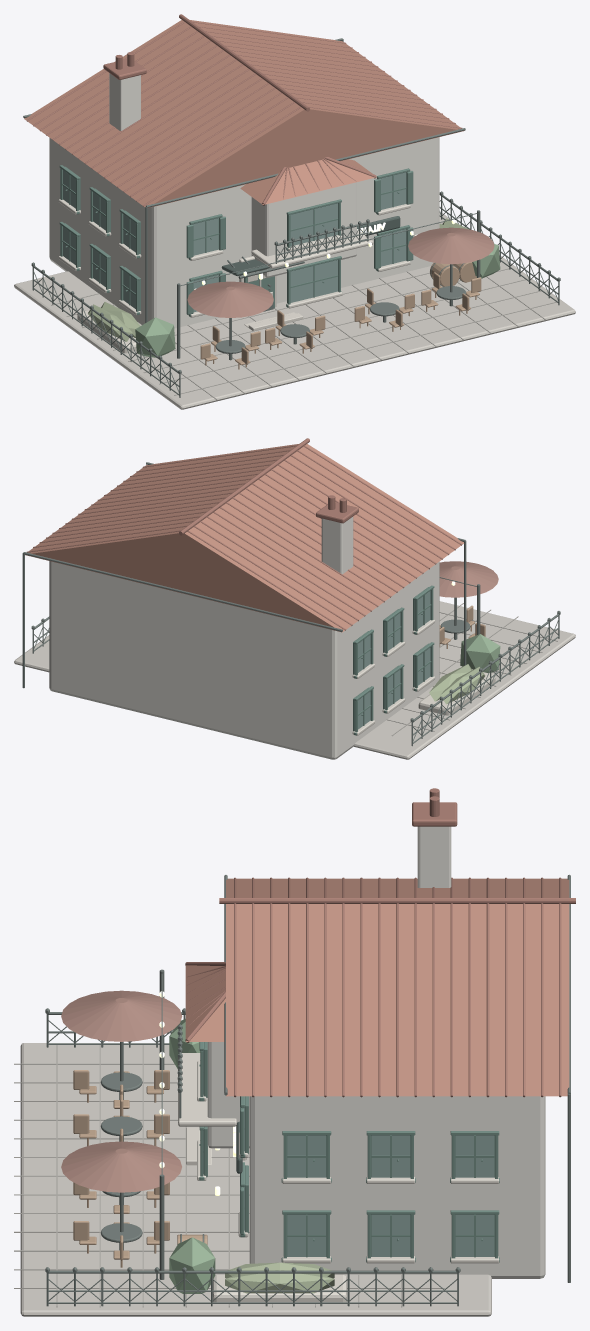
File: villa-le-bec.glb
The picture shows the model from 3 angles, top to bottom: view 1: azimuth 30°, elevation 25°; view 2: azimuth 150°, elevation 25°; view 3: azimuth 270°, elevation 25°; orthographic projection. The views are drawn at different scales.
Parts seen in each view (by area): view 1: villa-le-bec; view 2: villa-le-bec; view 3: villa-le-bec.
Part boxes in pixels (bbox=[...]): villa-le-bec: bbox=[14, 14, 575, 409]; villa-le-bec: bbox=[14, 438, 575, 759]; villa-le-bec: bbox=[14, 788, 575, 1316].
Bounding box in the file's own units: 19 × 10.51 × 16.7.
